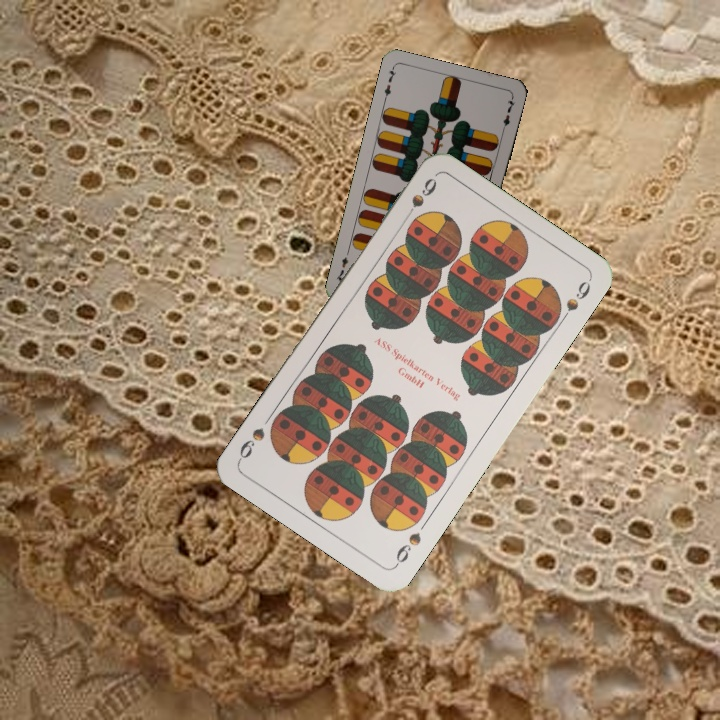E7: (380, 64, 398, 104)
S9: (399, 173, 440, 225), (391, 528, 424, 570)
